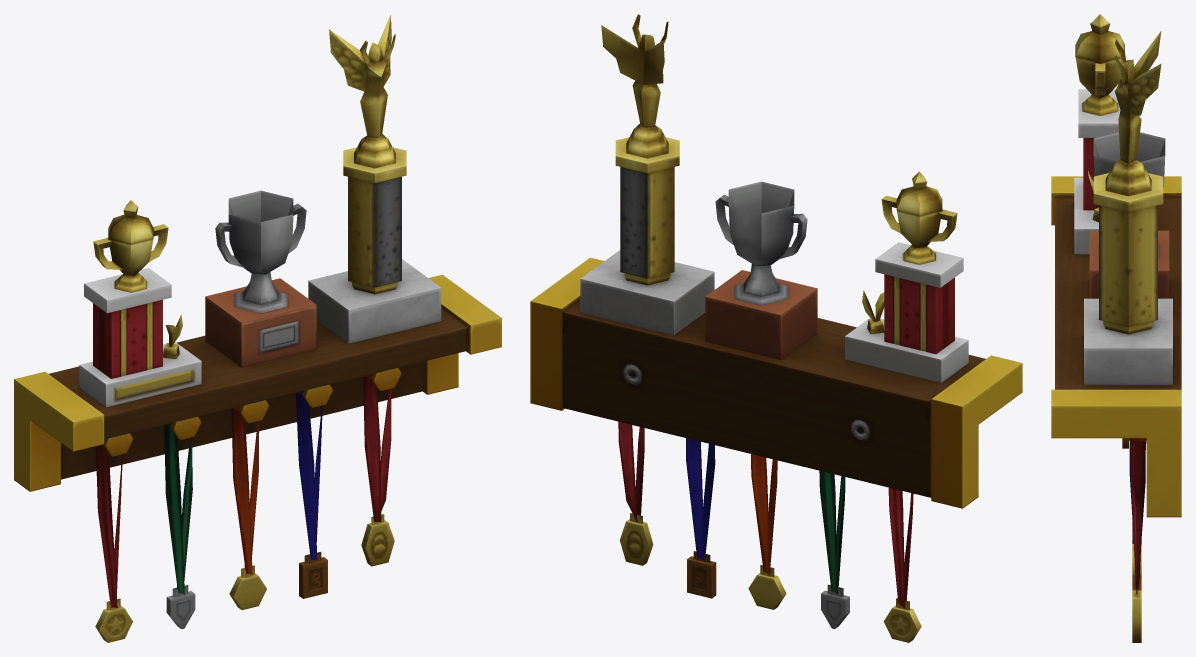
The model's file is estantePremios.fbx.
3 renders of one model, left to right at view 1: azimuth 30°, elevation 25°; view 2: azimuth 150°, elevation 25°; view 3: azimuth 270°, elevation 25°, orthographic. The views are drawn at different scales.
Visible parts, largest first — view 1: s4studio_mesh_1.002; view 2: s4studio_mesh_1.002; view 3: s4studio_mesh_1.002.
Part boxes in pixels (x1,y1,x2,y2): s4studio_mesh_1.002: (14,15,501,642); s4studio_mesh_1.002: (530,14,1022,642); s4studio_mesh_1.002: (1051,14,1181,642).
Bounding box in the file's own units: 109 × 135 × 26.18.
1 material, 1 textured.
